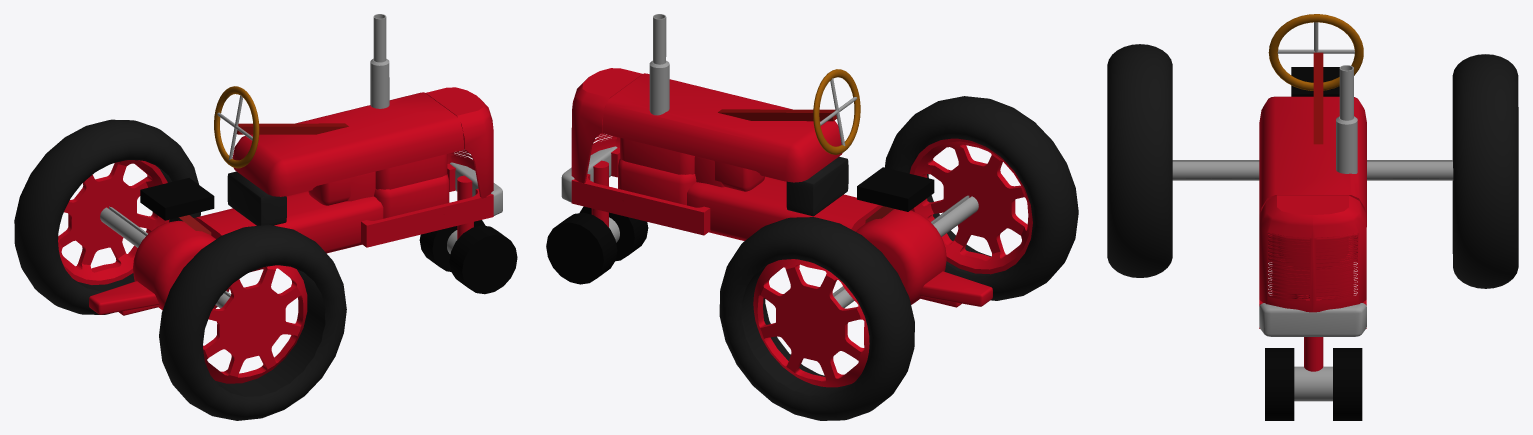
File: carAll2.DAE
3 renders of one model, left to right at view 1: azimuth 30°, elevation 25°; view 2: azimuth 150°, elevation 25°; view 3: azimuth 270°, elevation 25°, orthographic. The views are drawn at different scales.
Parts seen in each view (by area): view 1: Torus10, ChamferBox01, Torus01, Cylinder98, Cylinder16, ChamferBox30, ChamferBox06, Cylindre02, ChamferBox02, Box02, Bo_te02, ChamferBox29 (+12 smaller); view 2: Torus01, Torus10, ChamferBox01, Cylinder16, Cylinder98, ChamferBox30, ChamferBox06, Cylindre01, ChamferBox02, Box01, Bo_te02, ChamferBox29 (+12 smaller); view 3: Torus01, Torus10, ChamferBox02, ChamferBox01, Cylinder143, ChamferBox08, Cylindre01, Cylindre02, Torus03, Cylinder24, ChamferBox04, ChamferCyl24 (+5 smaller).
Boxes of the visible parts, box(x1,y1,x2,y2) form: Torus10: box(159, 224, 346, 420); ChamferBox01: box(232, 92, 463, 196); Torus01: box(14, 119, 200, 314); Cylinder98: box(203, 265, 307, 383); Cylinder16: box(58, 160, 169, 284); ChamferBox30: box(89, 220, 229, 315); ChamferBox06: box(194, 191, 383, 271); Cylindre02: box(449, 225, 517, 294); ChamferBox02: box(425, 87, 493, 198); Box02: box(360, 188, 493, 247); Bo_te02: box(140, 178, 214, 220); ChamferBox29: box(227, 171, 286, 225); Torus01: box(719, 217, 914, 420); Torus10: box(884, 96, 1078, 300); ChamferBox01: box(602, 73, 842, 182); Cylinder16: box(753, 259, 869, 387); Cylinder98: box(909, 138, 1032, 274); ChamferBox30: box(856, 209, 992, 307); ChamferBox06: box(687, 176, 882, 240); Cylindre01: box(546, 212, 617, 284); ChamferBox02: box(571, 68, 642, 183); Box01: box(571, 174, 710, 235); Bo_te02: box(857, 167, 934, 211); ChamferBox29: box(786, 156, 848, 216); Torus01: box(1452, 54, 1518, 288); Torus10: box(1107, 44, 1172, 277); ChamferBox02: box(1259, 195, 1366, 312); ChamferBox01: box(1259, 96, 1366, 226); Cylinder143: box(1172, 160, 1453, 180); ChamferBox08: box(1259, 303, 1366, 336); Cylindre01: box(1333, 348, 1362, 420); Cylindre02: box(1265, 348, 1294, 420); Torus03: box(1268, 14, 1363, 90); Cylinder24: box(1294, 366, 1332, 401); ChamferBox04: box(1272, 233, 1353, 299); ChamferCyl24: box(1336, 116, 1357, 173).
Bounding box in the file's own units: 55.22 × 42.1 × 36.96.
